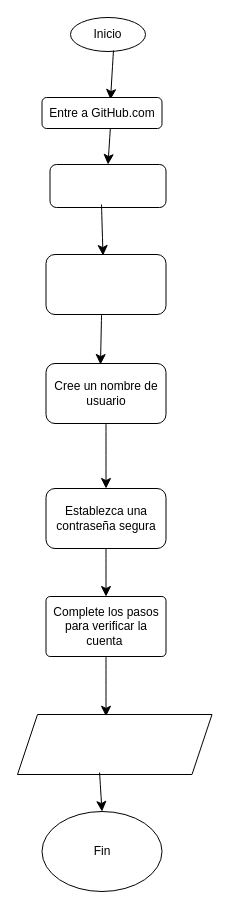
This 230x909 diagram has some shape labels left out. Each missing label, with the box of its shape:
Finalice la configuración de la cuenta: (16, 714, 212, 774)
Haga click para registrarse o crear una cuenta: (49, 164, 166, 208)
Ingrese un correo electrónico: (45, 254, 166, 314)
